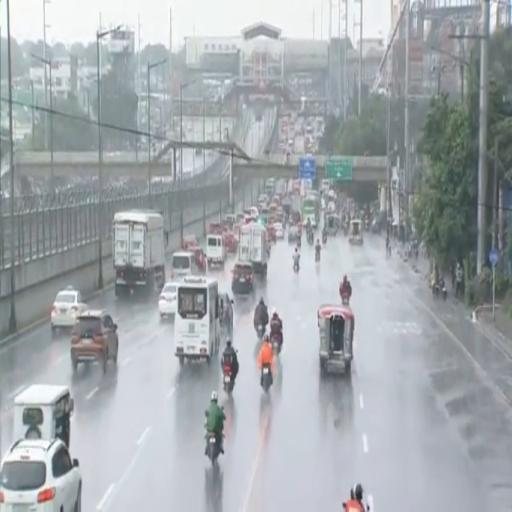bus: (174, 277, 220, 364), (301, 195, 320, 227)
car: (0, 439, 82, 511), (71, 310, 118, 373), (51, 286, 88, 330), (232, 262, 254, 295), (159, 282, 176, 318), (218, 293, 233, 333), (288, 226, 300, 242), (274, 222, 284, 238)
motorcycle: (207, 432, 220, 466), (224, 365, 234, 395), (432, 281, 447, 300), (262, 364, 272, 392), (271, 334, 281, 355), (256, 325, 265, 340), (341, 292, 350, 306), (307, 230, 314, 245), (294, 261, 299, 273), (315, 250, 320, 262), (322, 233, 327, 244), (297, 236, 301, 247), (364, 505, 370, 511)
tricycle: (318, 304, 354, 373)
truck: (113, 210, 166, 296), (238, 223, 269, 278), (301, 192, 320, 228)
